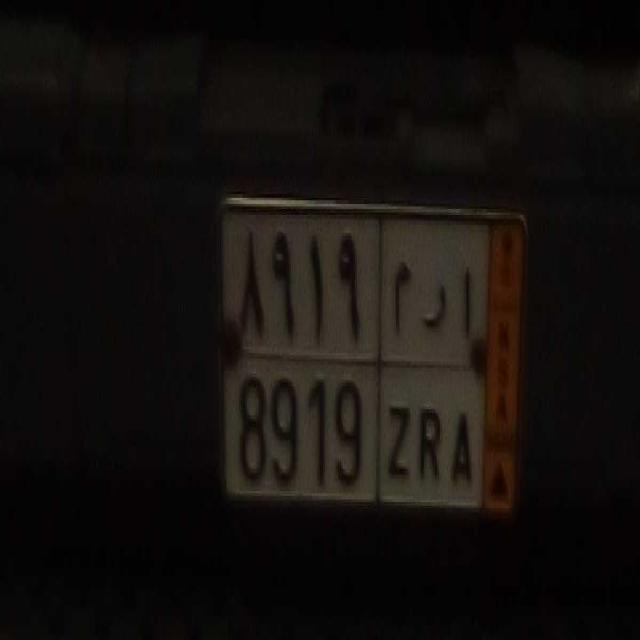license_plate: (223, 350, 483, 503)
